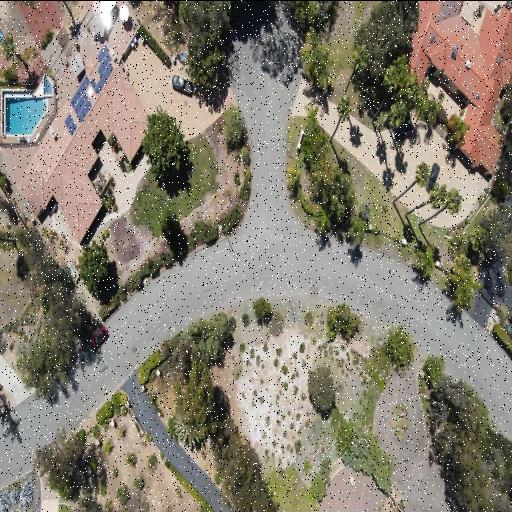solar-panel: (90, 44, 114, 96), (70, 75, 92, 123), (65, 113, 77, 137)
